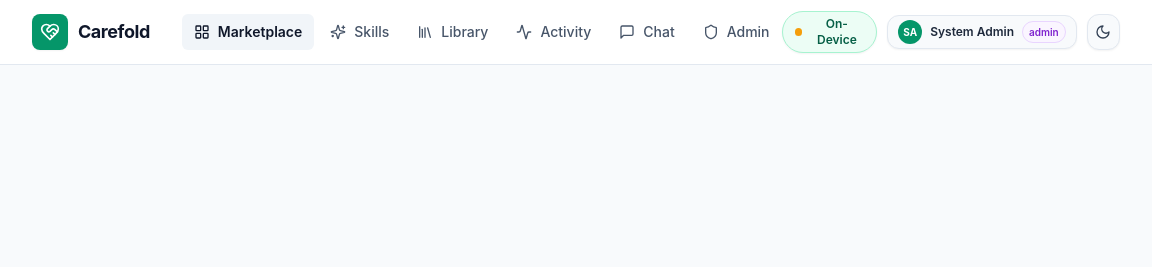
Navbar Auth & Profile Integration › renders user button and dropdown menu when user is logged in
Check: the text with test id "user-nav-role-badge" reads "admin", box [1029,26,1059,38]
# Click profile button to open dropdown
Click the button with test id "user-profile-button" at [982, 32], box [887,15,1077,49]
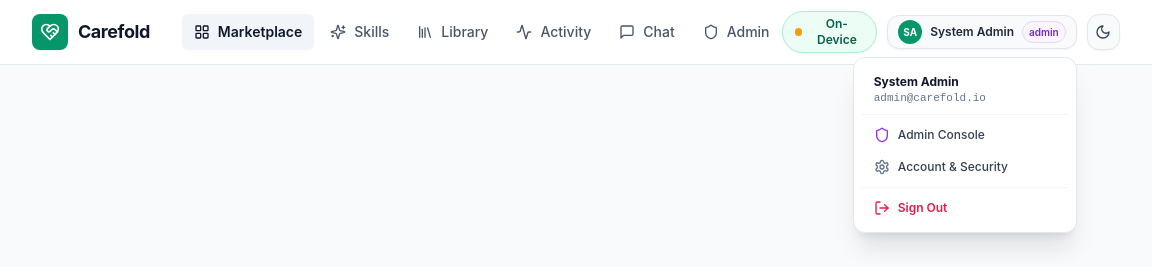
Check: the menu with test id "user-profile-dropdown" is shown, box [853,57,1077,233]
Check: the menu item with test id "nav-dropdown-admin-link" is shown, box [874,127,985,143]
Check: the menu item with test id "nav-dropdown-settings-btn" is shown, box [862,151,1068,183]
